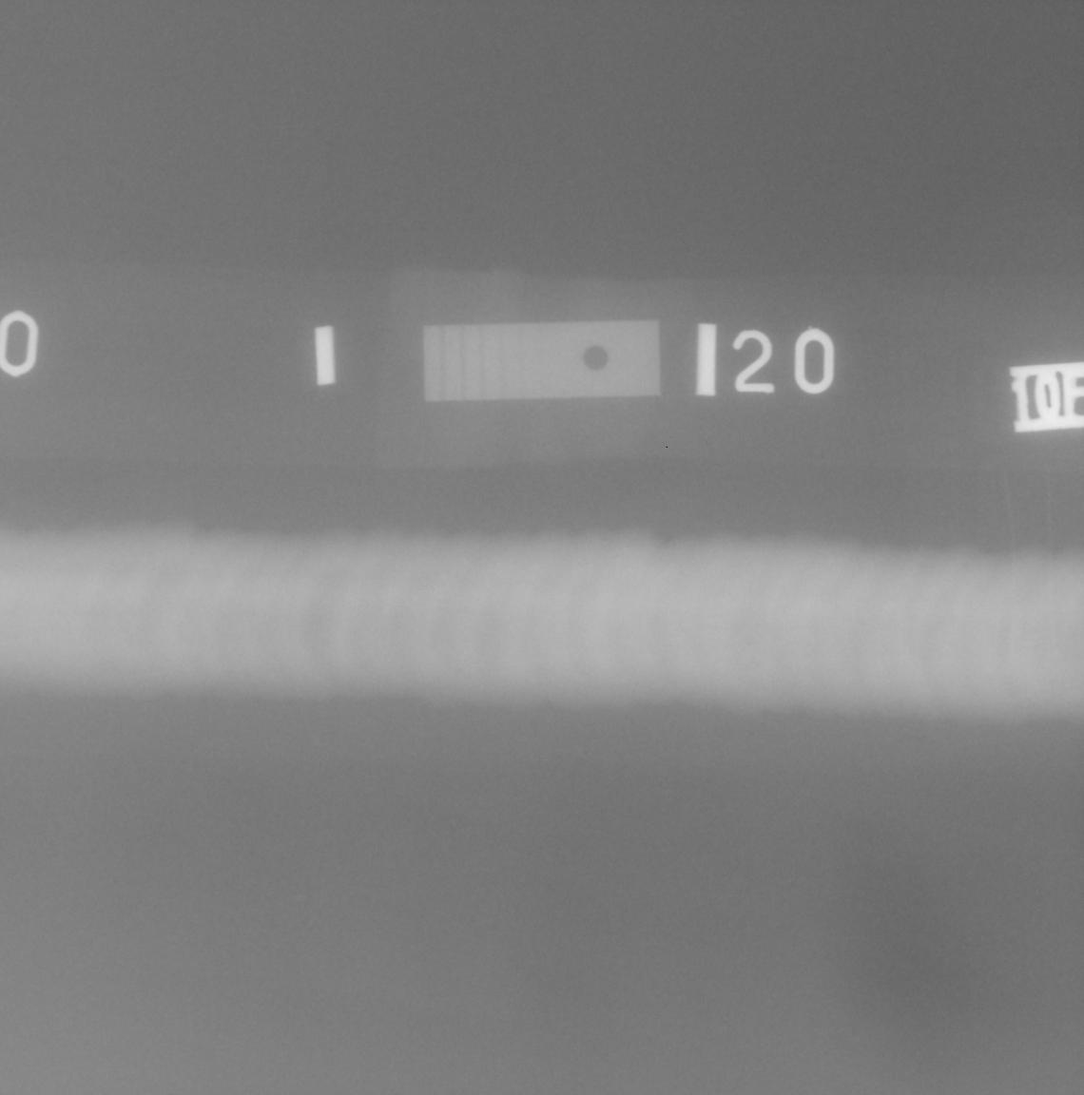Reference Standard 1: (422, 319, 660, 403)
